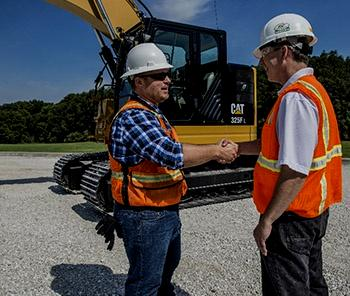helmet: (255, 13, 317, 79), (119, 41, 174, 99)
reflective: (246, 72, 345, 218), (105, 101, 191, 209)
